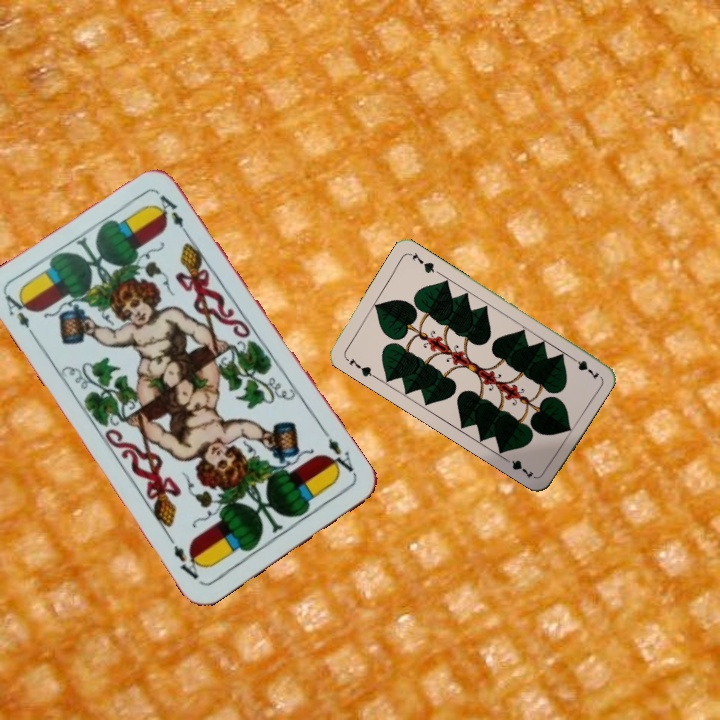EA: (1, 288, 40, 343), (320, 427, 359, 479)
G7: (565, 352, 602, 382), (341, 353, 378, 380)
